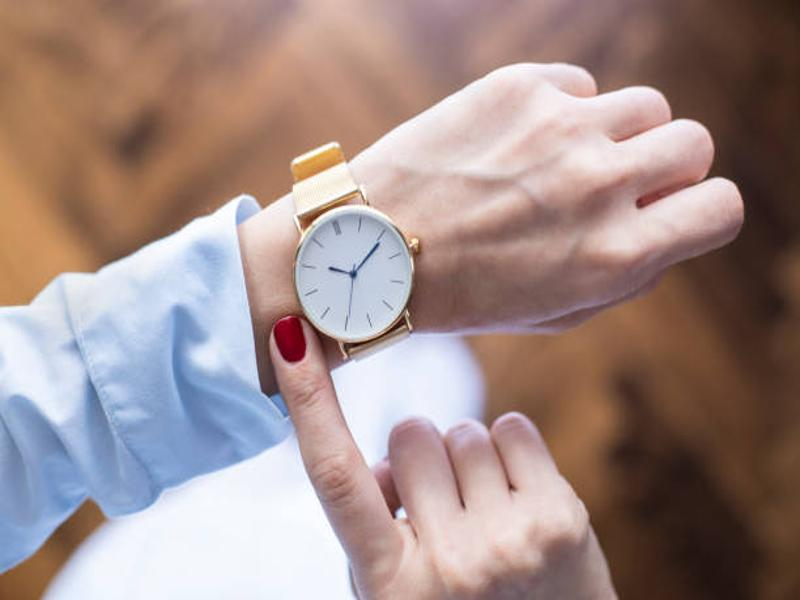watch: (290, 142, 423, 361)
